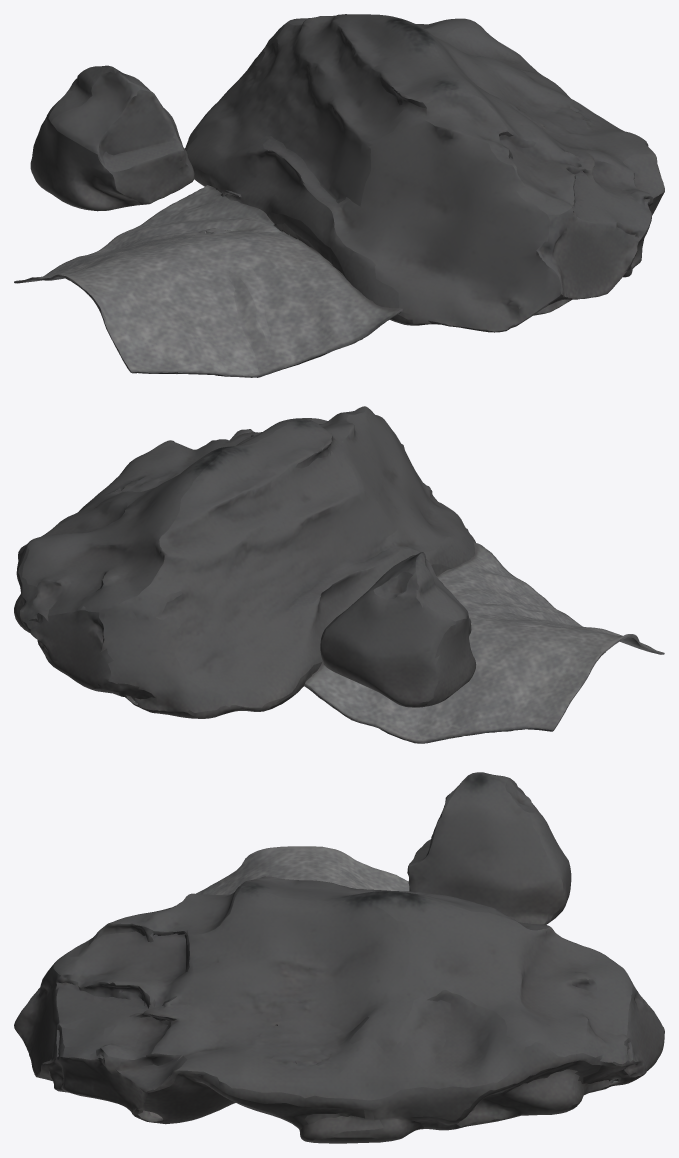
3 views of the same model, one above another, from view 1: azimuth 30°, elevation 25°; view 2: azimuth 150°, elevation 25°; view 3: azimuth 270°, elevation 25° (orthographic). The views are drawn at different scales.
Visible parts, largest first — view 1: world; view 2: world; view 3: world.
Part boxes in pixels (box(x1,y1,x2,y2)): world: box(14, 14, 664, 377); world: box(14, 406, 664, 743); world: box(14, 772, 664, 1143).
Size of the model in its own units: 1.2 by 0.428 by 1.17.
1 material, 1 textured.
